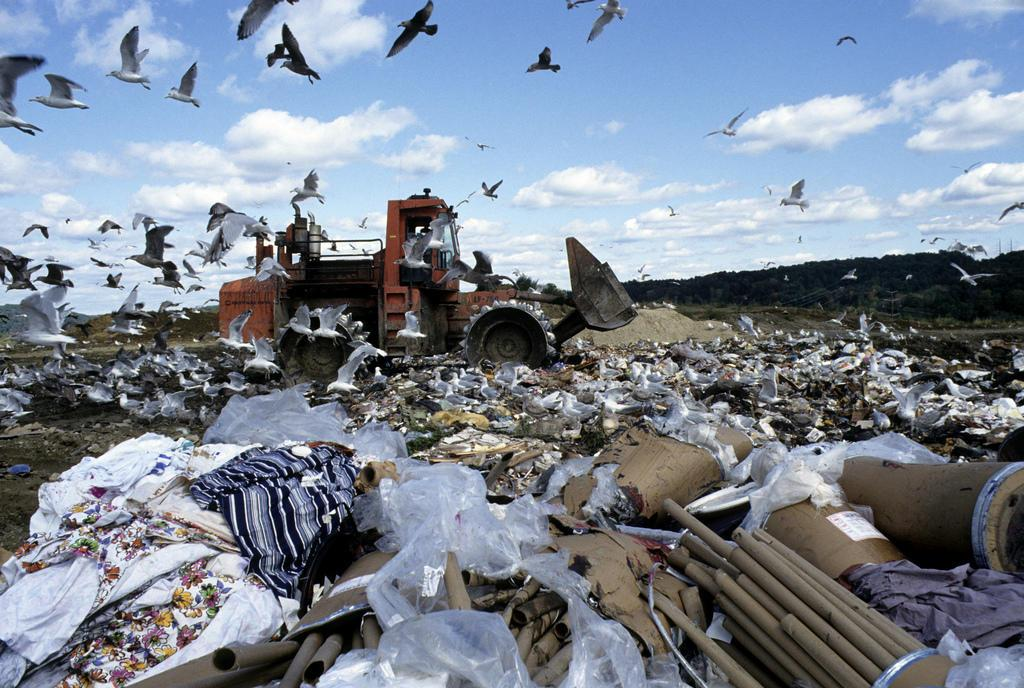garbage: (0, 315, 1024, 688)
